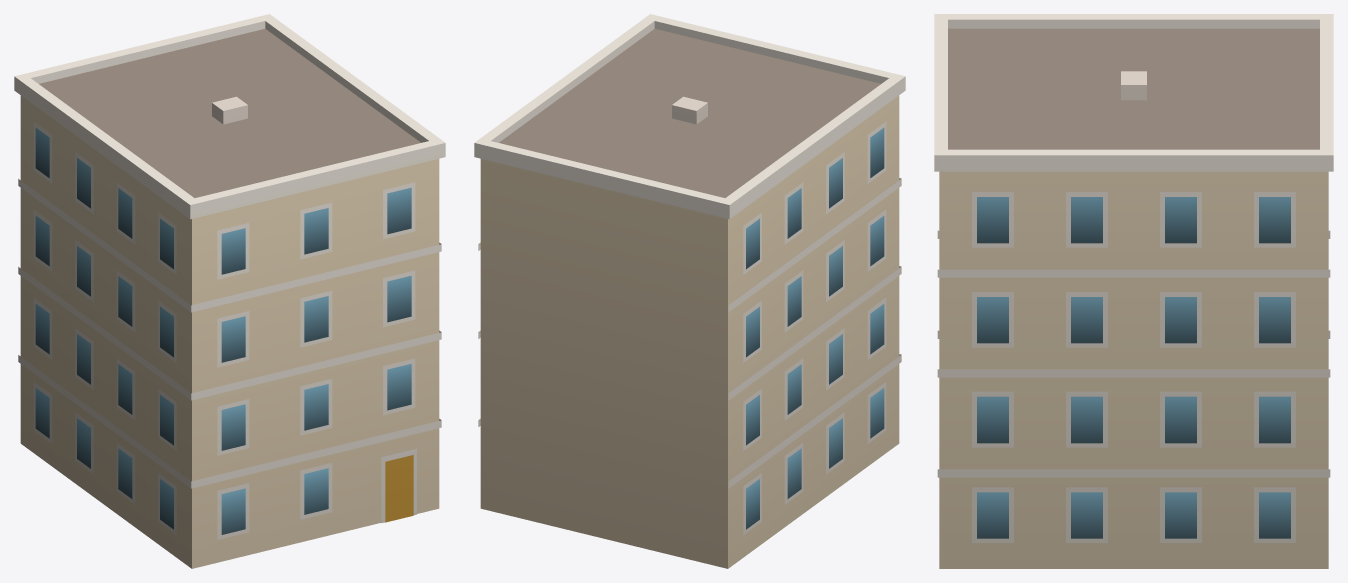
Rendered from vee_leftbb0_far.glb.
The picture shows the model from 3 angles, left to right: view 1: azimuth 30°, elevation 25°; view 2: azimuth 150°, elevation 25°; view 3: azimuth 270°, elevation 25°; orthographic projection. The views are drawn at different scales.
Visible parts, largest first — view 1: vee_leftbb0_far; view 2: vee_leftbb0_far; view 3: vee_leftbb0_far.
Boxes of the visible parts, bbox=[...] form: vee_leftbb0_far: bbox=[14, 14, 445, 568]; vee_leftbb0_far: bbox=[474, 14, 905, 568]; vee_leftbb0_far: bbox=[934, 14, 1333, 568].
Bounding box in the file's own units: 10.32 × 14.37 × 12.32.
1 material, 1 textured.
